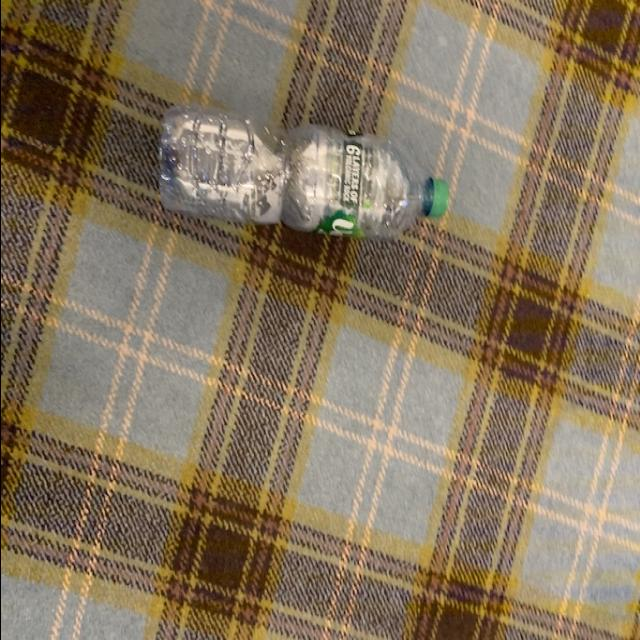PET: (155, 105, 447, 244)
